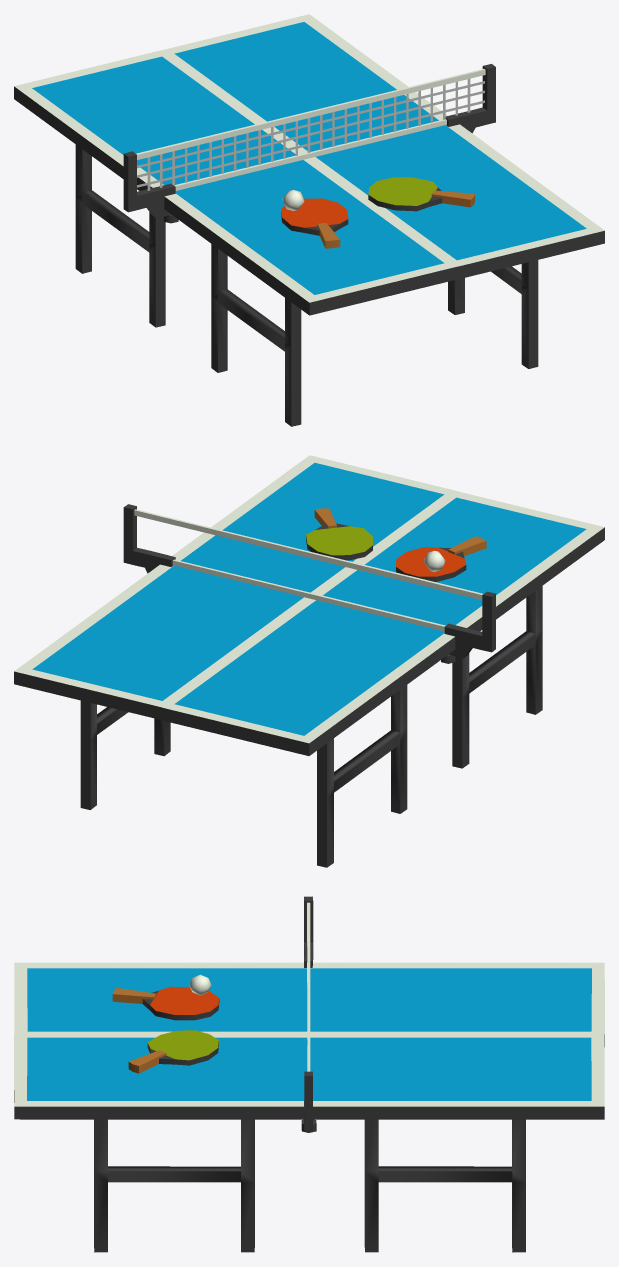
Rendered from PingPongTable-transformed.glb.
3 views of the same model, one above another, from view 1: azimuth 30°, elevation 25°; view 2: azimuth 150°, elevation 25°; view 3: azimuth 270°, elevation 25° (orthographic).
Parts seen in each view (by area): view 1: Line025, Plane026; view 2: Line025; view 3: Line025.
Boxes of the visible parts, box(x1,y1,x2,y2) form: Line025: box(14, 14, 604, 426); Plane026: box(137, 79, 484, 190); Line025: box(14, 455, 604, 867); Line025: box(14, 896, 604, 1252).
Bounding box in the file's own units: 1.5 × 0.8059 × 2.08.
Materials: 2 (2 with a texture image).
